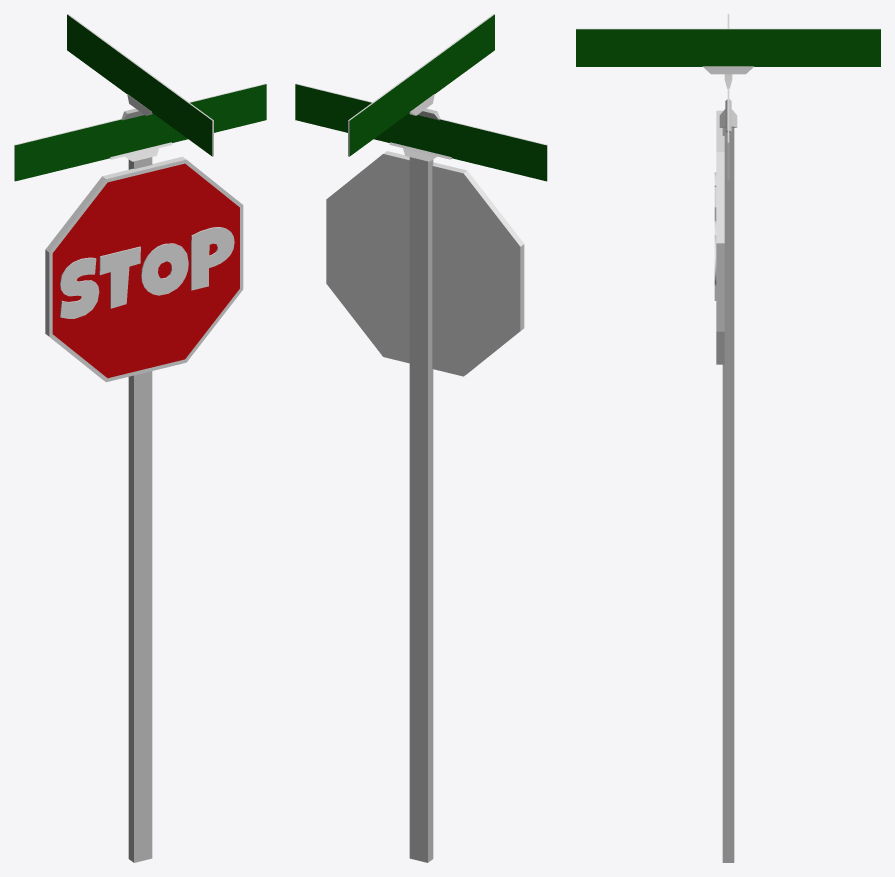
File: StreetNameStopSign.fbx
3 views of the same model, side by side, from view 1: azimuth 30°, elevation 25°; view 2: azimuth 150°, elevation 25°; view 3: azimuth 270°, elevation 25° (orthographic). The views are drawn at different scales.
Parts seen in each view (by area): view 1: StreetNameStopSign; view 2: StreetNameStopSign; view 3: StreetNameStopSign.
Boxes of the visible parts, x1,y1,x2,y2 form: StreetNameStopSign: [14, 14, 266, 862]; StreetNameStopSign: [295, 14, 547, 862]; StreetNameStopSign: [576, 14, 880, 862].
Size of the model in its own units: 0.7448 by 2.24 by 0.7448.
